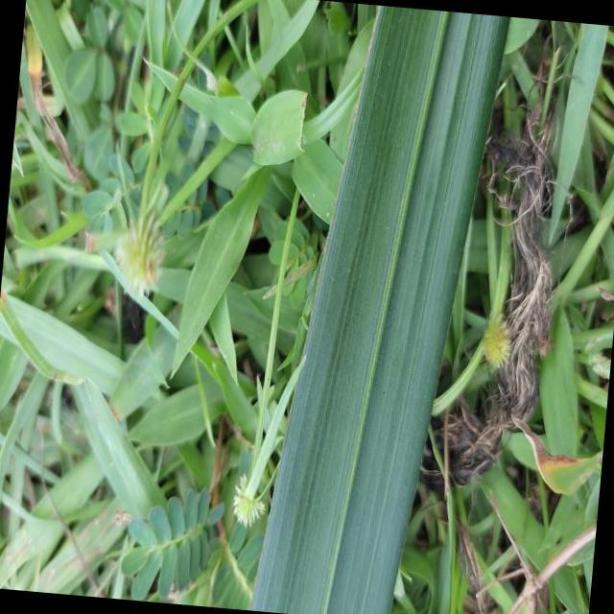Healthy: (248, 0, 513, 614)
